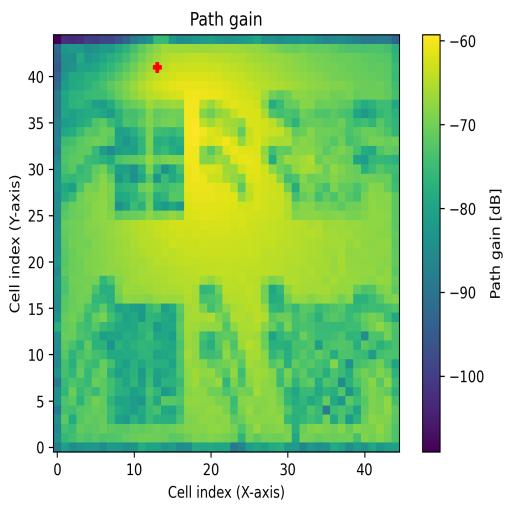Concrete: (292, 109, 368, 220)
Glass: (115, 99, 185, 219)
Metal: (290, 304, 370, 425)
Wood: (108, 305, 184, 424)
